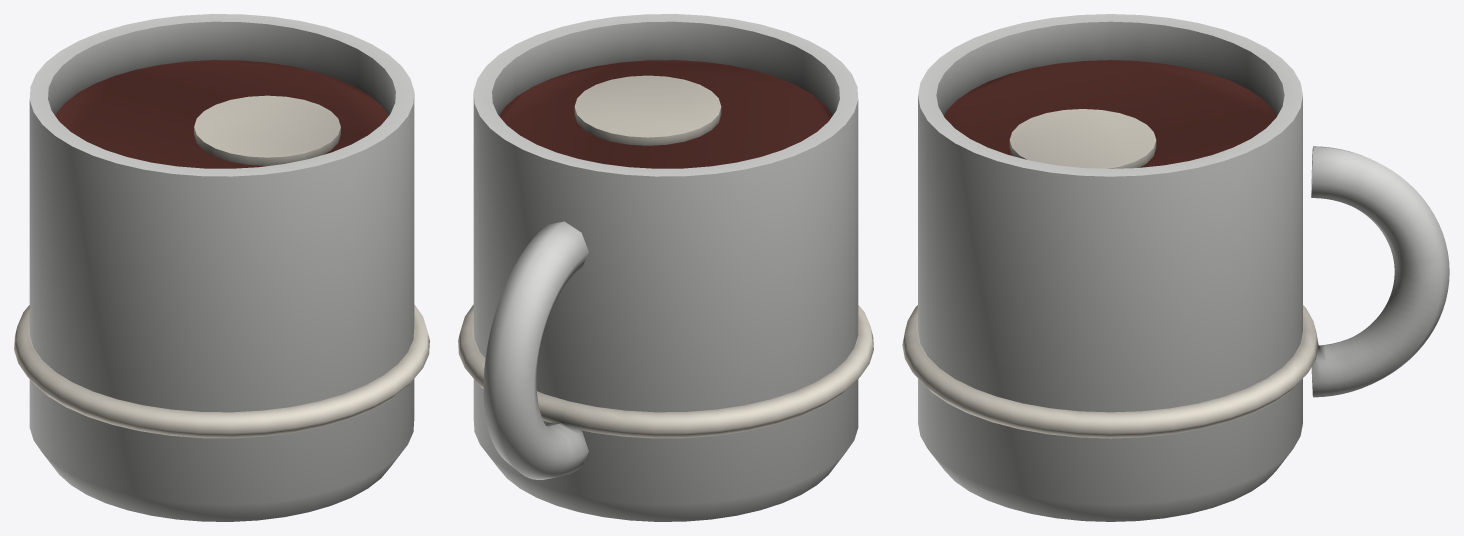
The model's file is meal_mug.glb.
3 renders of one model, left to right at view 1: azimuth 30°, elevation 25°; view 2: azimuth 150°, elevation 25°; view 3: azimuth 270°, elevation 25°, orthographic.
Parts seen in each view (by area): view 1: PART; view 2: PART; view 3: PART.
Part boxes in pixels (left/top/right/bottom): PART: left=14, top=14, right=429, bottom=521; PART: left=458, top=14, right=873, bottom=521; PART: left=902, top=14, right=1449, bottom=521.
Size of the model in its own units: 0.1127 by 0.1054 by 0.1481.
